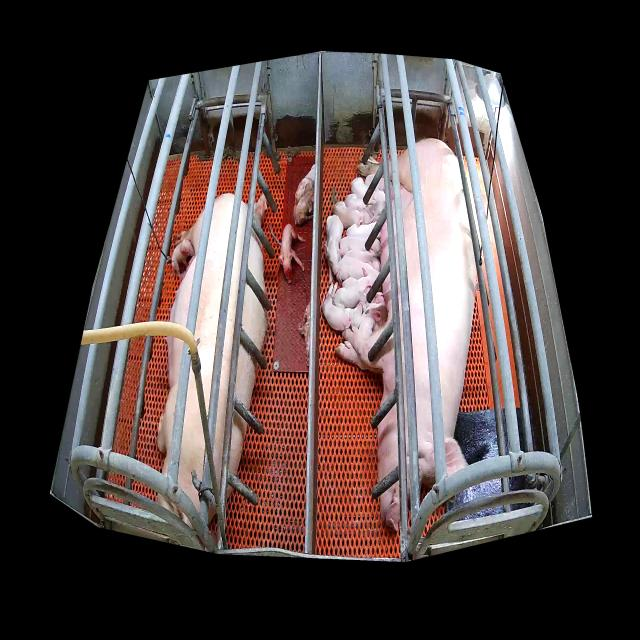pig: (333, 139, 482, 532), (157, 192, 268, 533), (324, 283, 364, 331), (334, 268, 375, 312), (324, 215, 346, 285), (280, 224, 305, 284), (344, 194, 386, 223), (335, 200, 374, 230), (340, 236, 381, 263), (359, 302, 388, 338), (336, 258, 379, 282), (172, 239, 196, 281), (294, 163, 315, 208), (294, 182, 314, 226), (352, 177, 386, 202), (298, 302, 310, 368), (345, 222, 381, 241), (255, 193, 267, 225), (364, 174, 385, 190)
